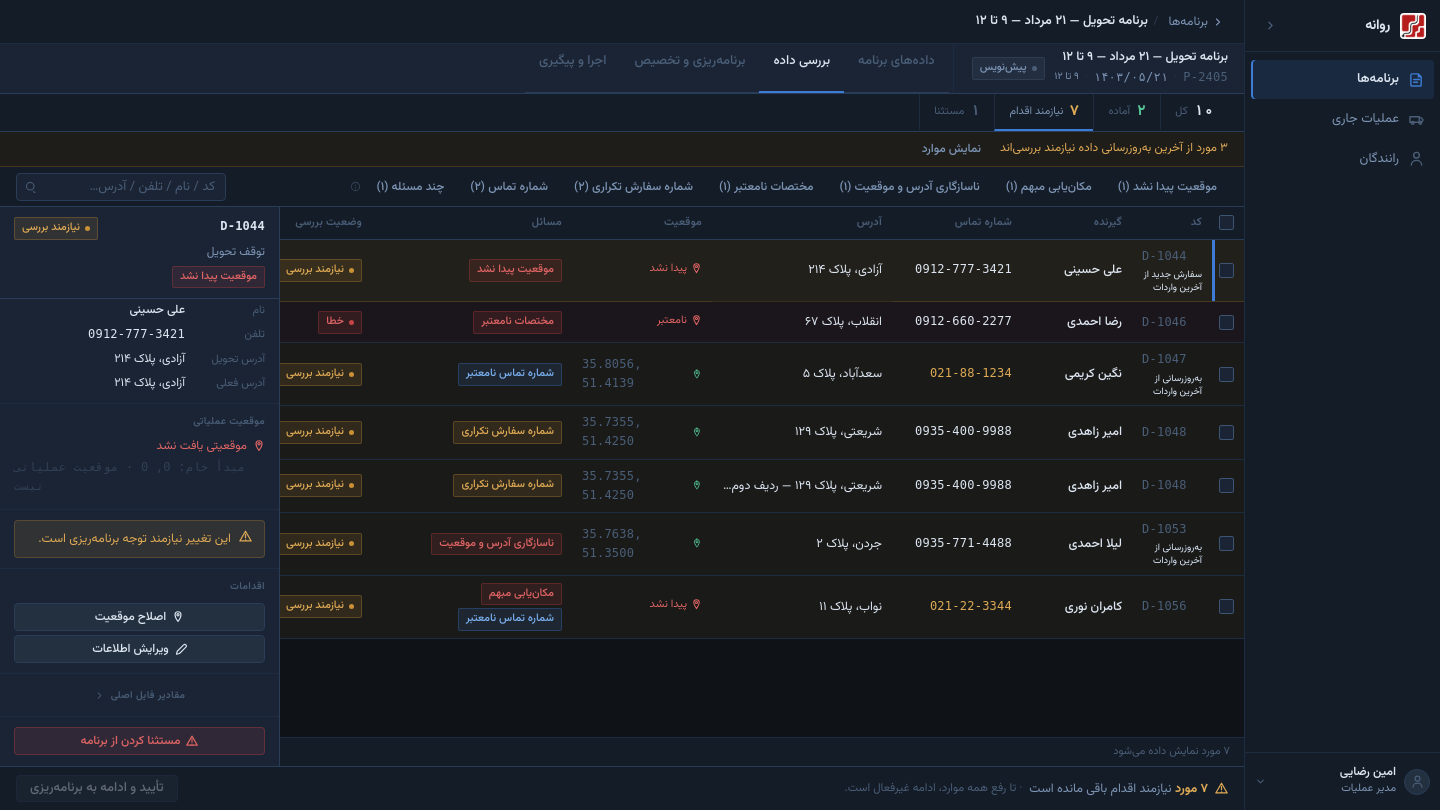
Test: Review shell › excludes and restores an individual item without deleting raw history
(page scrolled)
Click the button "مستثنا کردن از برنامه": {"x": 140, "y": 741} [14,727,265,755]
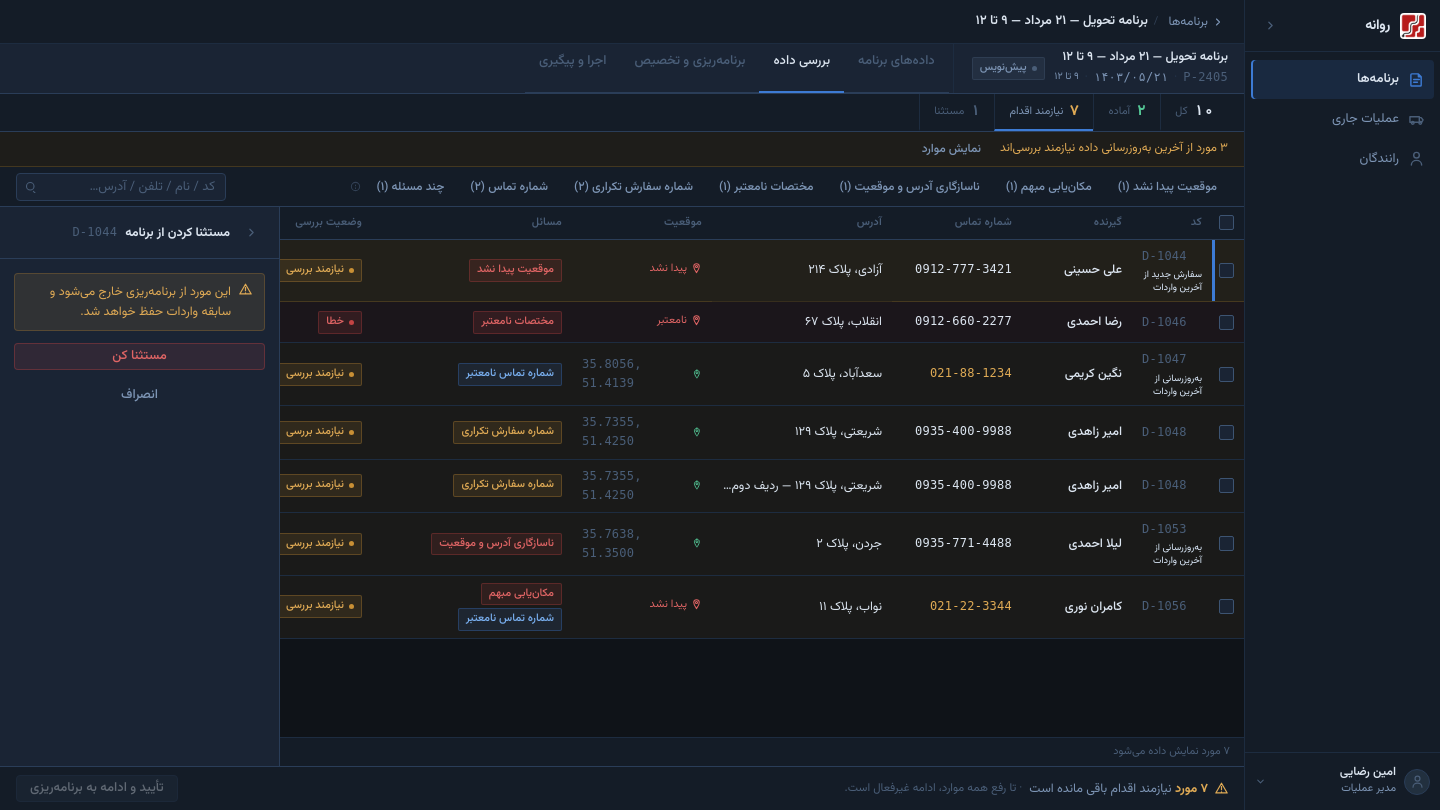
Expected: the text "سابقه واردات حفظ خواهد شد" is shown, [50,282,231,322]
Click the button "مستثنا کن": {"x": 140, "y": 356} [14,343,265,370]
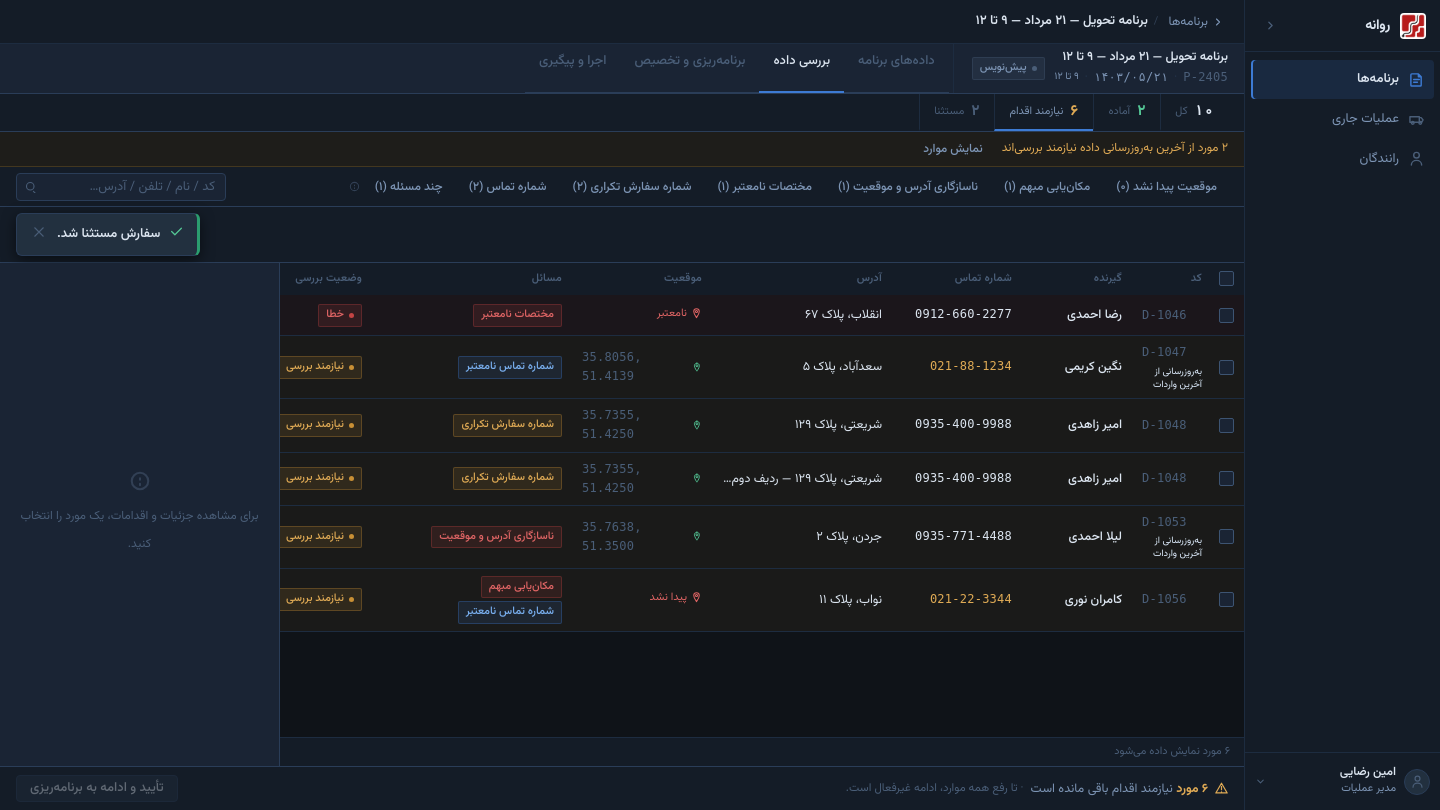
Expected: the text "علی حسینی" is gone
Expected: the text "سفارش مستثنا شد." is shown, [57,224,160,245]
Click the button "۲ مستثنا": {"x": 957, "y": 112} [919,94,994,131]
(page scrolled)
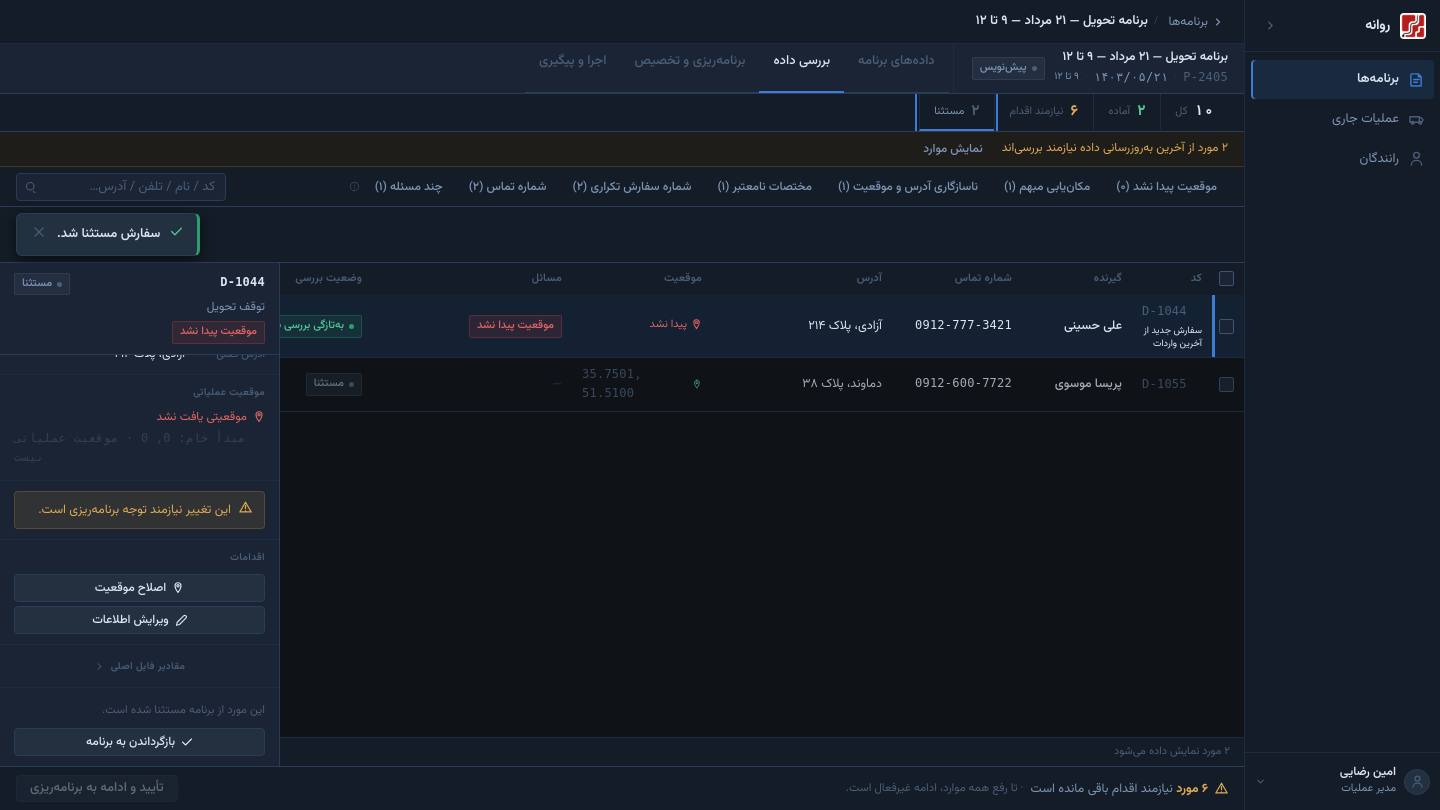
Click the button "بازگرداندن به برنامه": {"x": 140, "y": 742} [14,728,265,756]
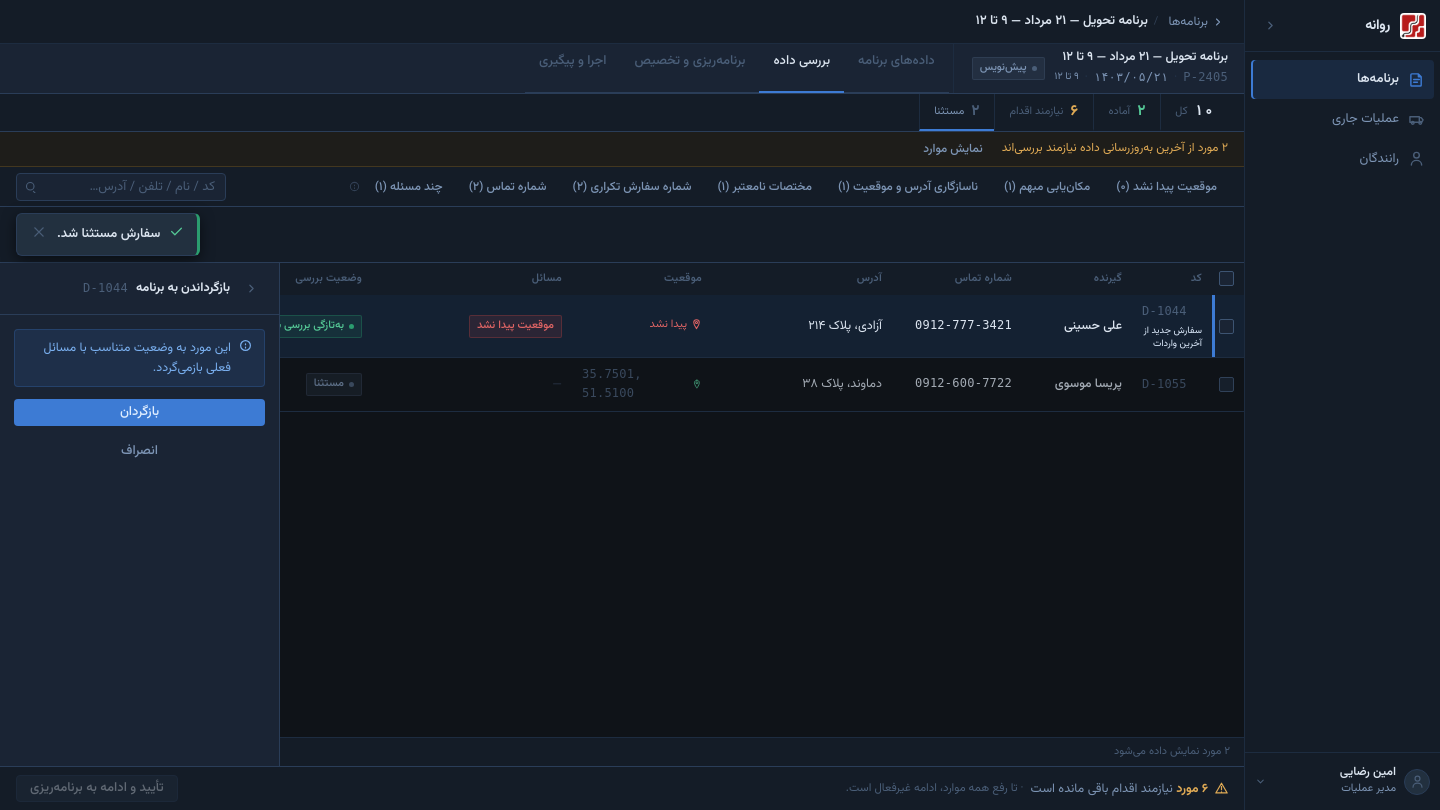
Click the button "بازگردان": {"x": 140, "y": 412} [14,399,265,426]
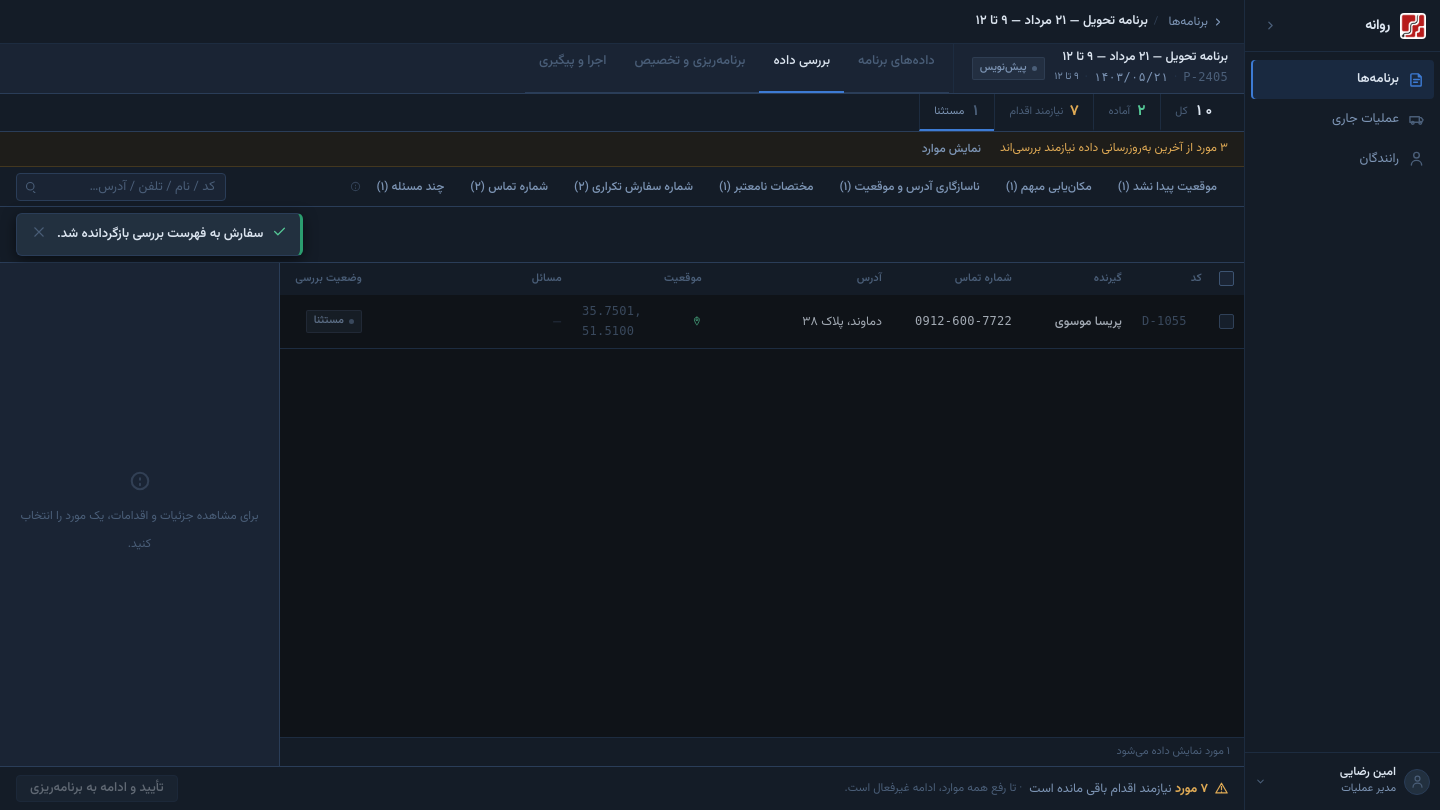
Expected: the text "علی حسینی" is gone
Click the button "۷ نیازمند اقدام": {"x": 1044, "y": 112} [994,94,1094,131]
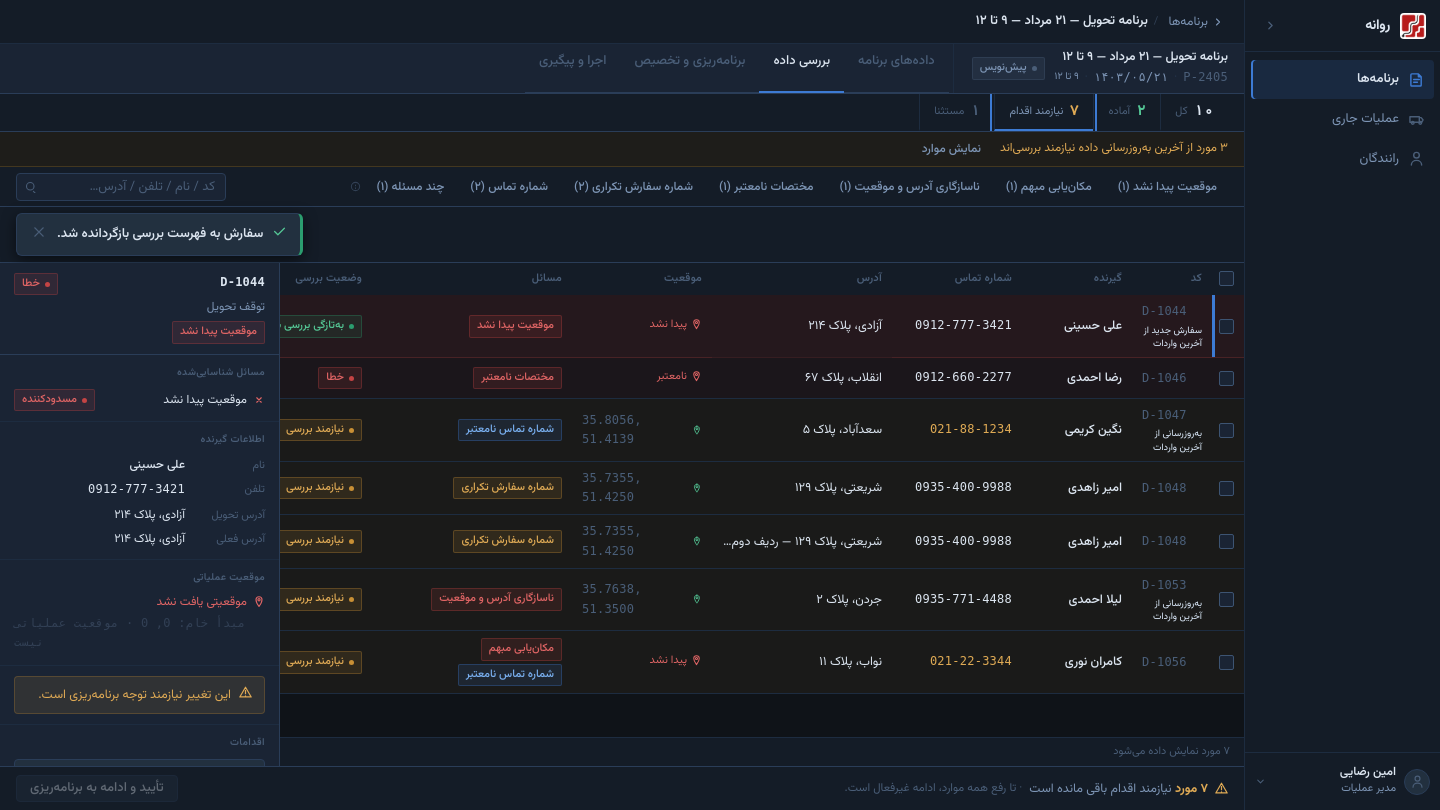
Expected: the text "علی حسینی" is shown, [1022,295,1132,358]
